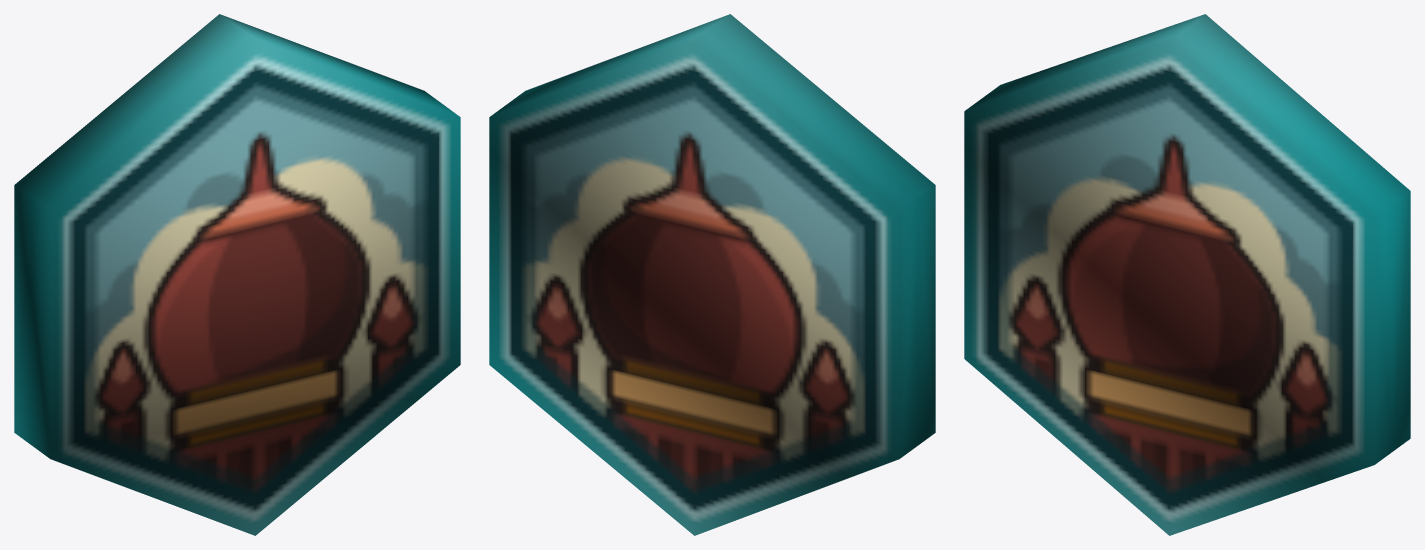
The model's file is changjingbi01.FBX.
3 views of the same model, side by side, from view 1: azimuth 30°, elevation 25°; view 2: azimuth 150°, elevation 25°; view 3: azimuth 330°, elevation 25° (orthographic).
Parts seen in each view (by area): view 1: changjingbi01; view 2: changjingbi01; view 3: changjingbi01.
Boxes of the visible parts, x1,y1,x2,y2 form: changjingbi01: (14,14,460,535); changjingbi01: (489,14,935,535); changjingbi01: (964,14,1410,535).
Size of the model in its own units: 710 by 820 by 108.
